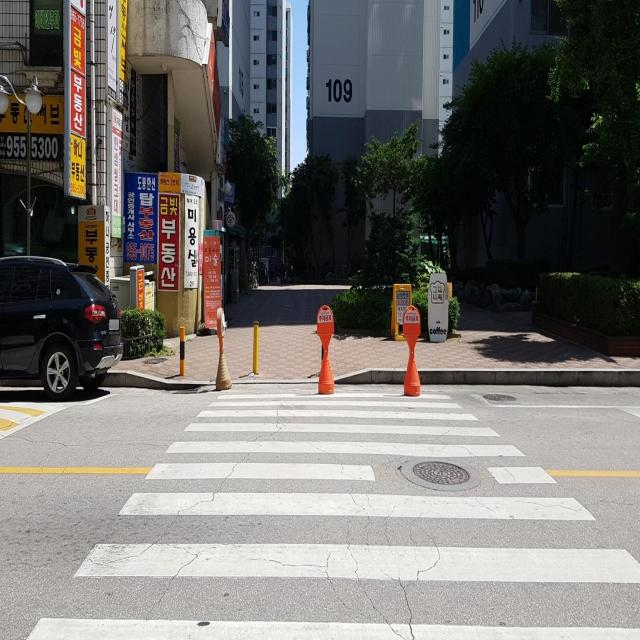횡단보도: (23, 391, 640, 639)
